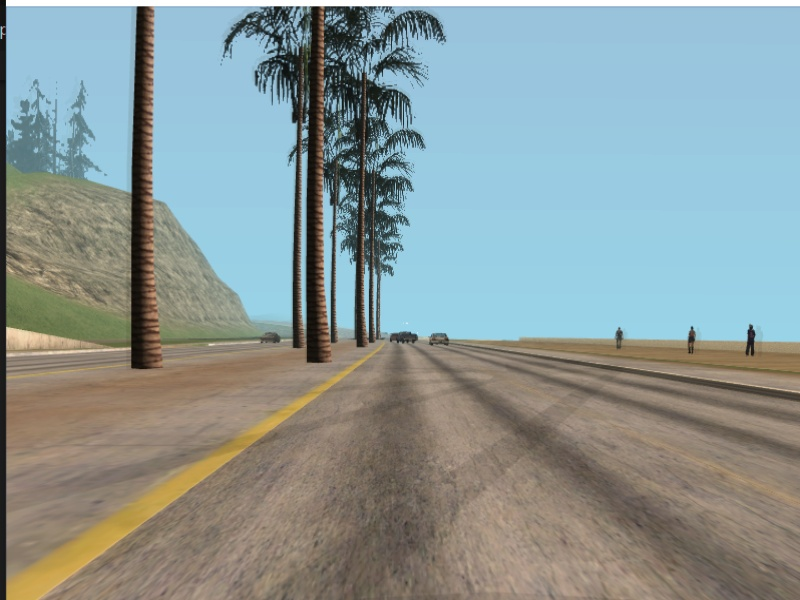person: (745, 322, 758, 359), (687, 325, 698, 355), (614, 327, 626, 351)
tree: (129, 9, 170, 375), (309, 5, 338, 370), (290, 84, 305, 350), (356, 83, 370, 349), (329, 131, 340, 341)
vehicle: (425, 331, 451, 347), (258, 331, 281, 346), (396, 330, 416, 347)
